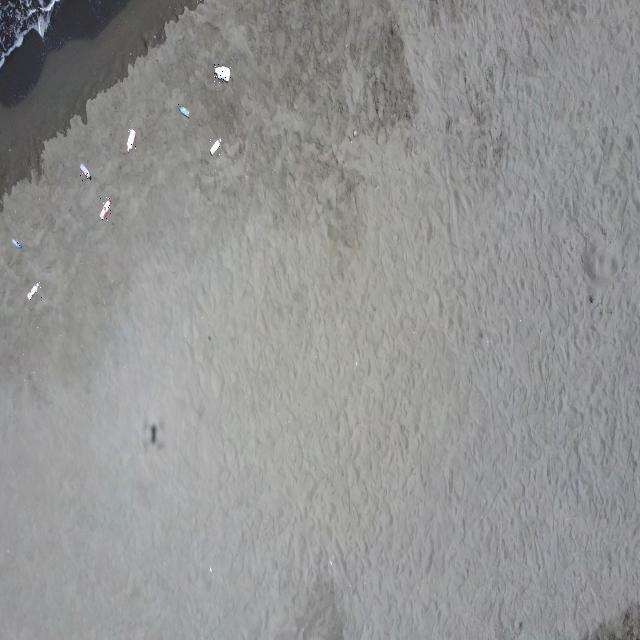Garbage: (100, 196, 110, 220), (213, 64, 228, 80), (27, 281, 39, 299), (127, 128, 135, 151), (209, 139, 220, 155), (176, 103, 188, 116), (80, 163, 89, 179), (12, 238, 20, 248)
